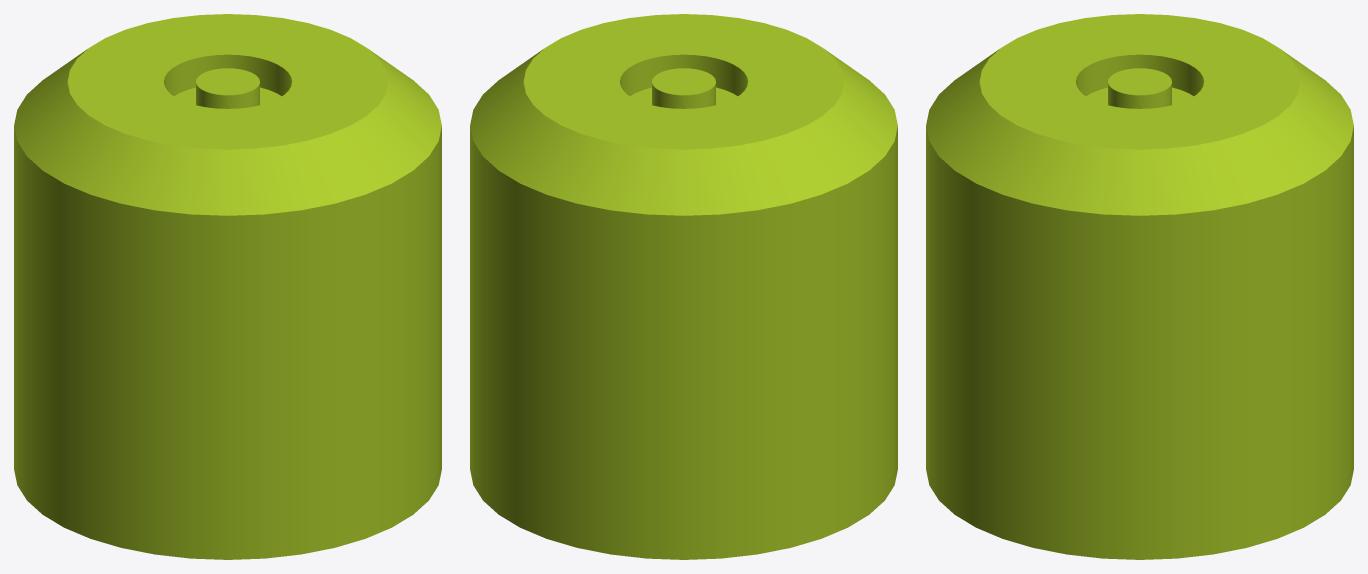
The model's file is oxygenTank.fbx.
The picture shows the model from 3 angles, left to right: view 1: azimuth 30°, elevation 25°; view 2: azimuth 150°, elevation 25°; view 3: azimuth 270°, elevation 25°; orthographic projection.
Visible parts, largest first — view 1: Válec; view 2: Válec; view 3: Válec.
Boxes of the visible parts, bbox=[...] form: Válec: bbox=[14, 14, 441, 559]; Válec: bbox=[470, 14, 897, 559]; Válec: bbox=[926, 14, 1353, 559].
Bounding box in the file's own units: 40 × 40 × 40.
